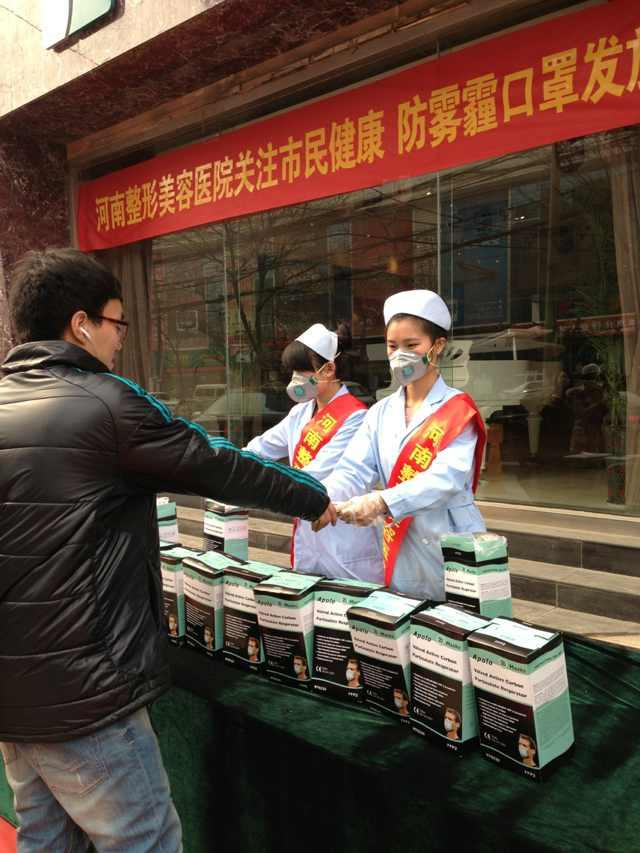NONE: (88, 301, 128, 373)
OK: (290, 343, 330, 407), (391, 328, 435, 383)
